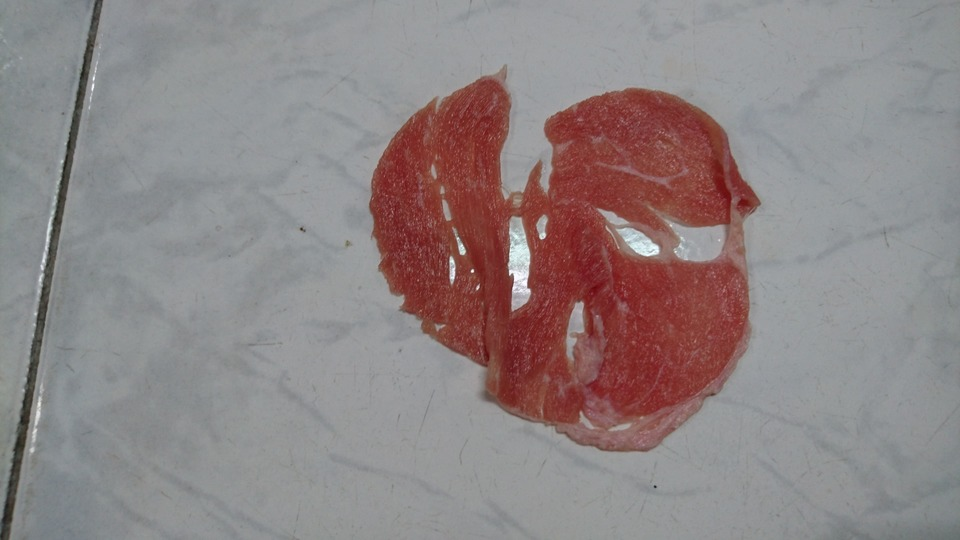restructured meat: (373, 65, 764, 441)
